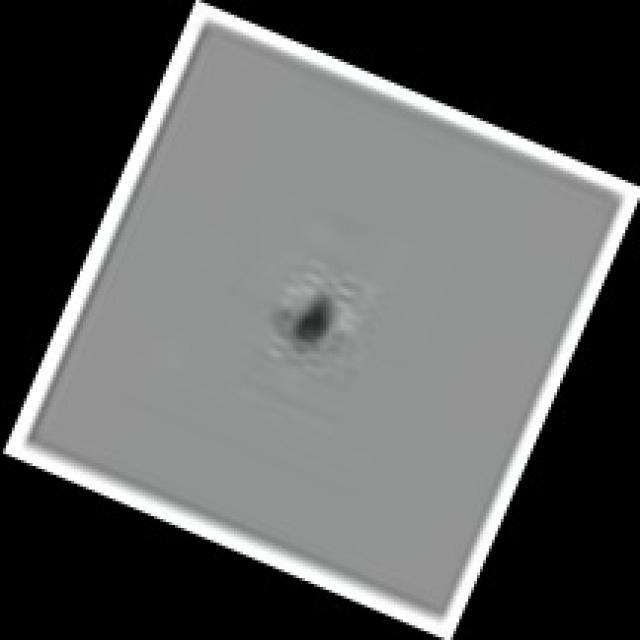Defect3: (209, 227, 421, 393)
